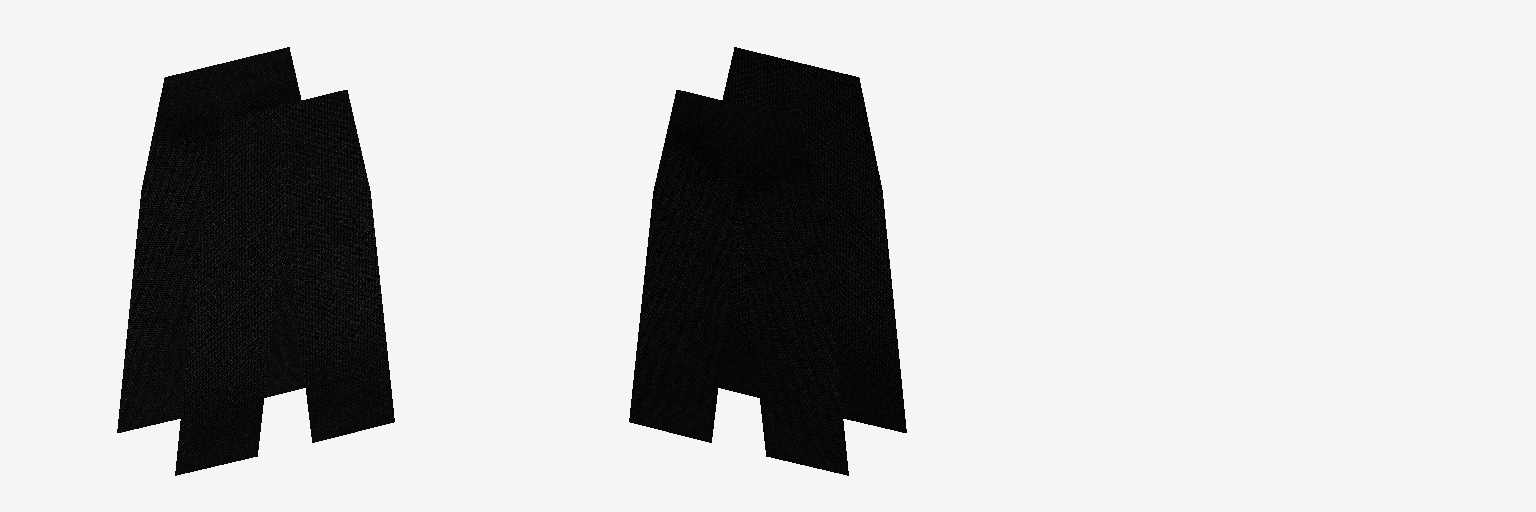
The picture shows the model from 3 angles: view 1: azimuth 30°, elevation 25°; view 2: azimuth 150°, elevation 25°; view 3: azimuth 270°, elevation 25°; orthographic projection.
Parts seen in each view (by area): view 1: Plane.005; view 2: Plane.005; view 3: none.
Part boxes in pixels (x1,y1,x2,y2): Plane.005: (117, 47, 394, 475); Plane.005: (629, 47, 906, 475).
Size of the model in its own units: 5.59 by 8.38 by 2.55.
Materials: 1 (1 with a texture image).